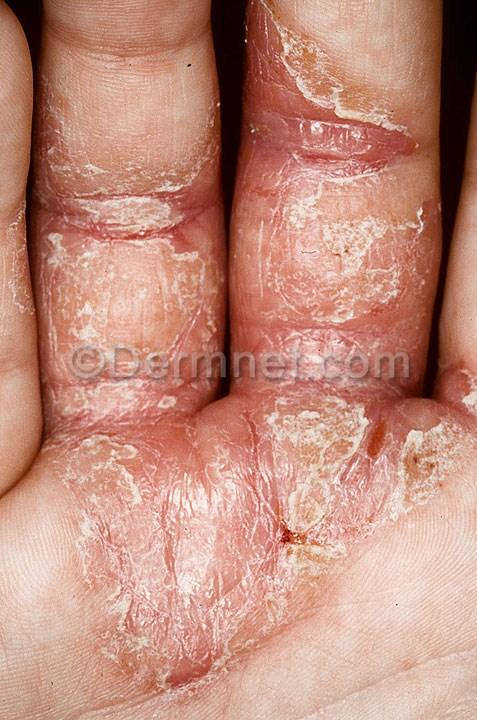Eczema: (38, 376, 477, 720), (9, 53, 237, 349), (242, 0, 432, 348)
